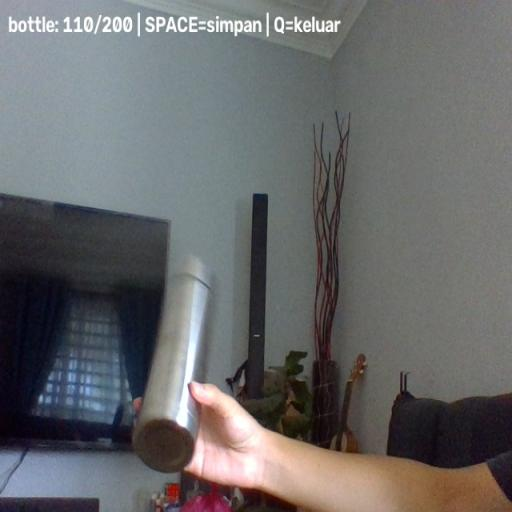Bottle: (132, 256, 217, 473)
